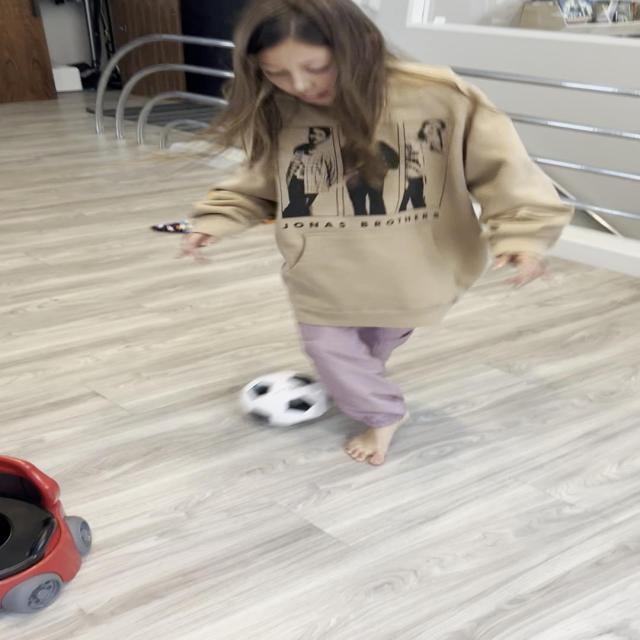Soccer Ball: (240, 370, 335, 428)
